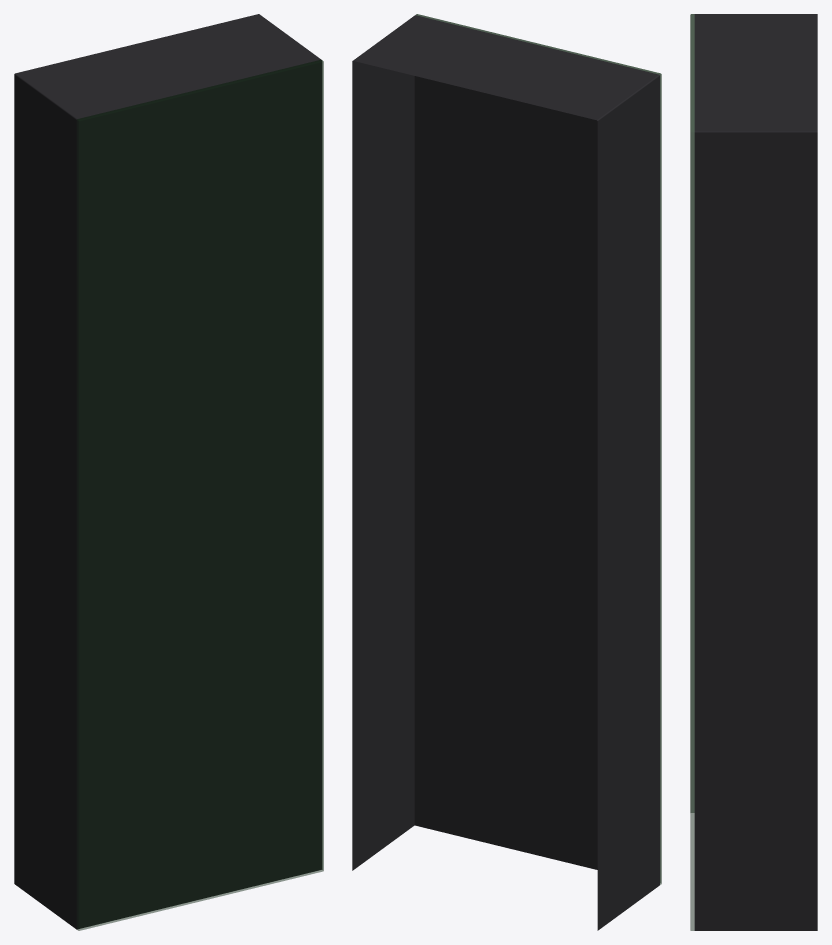
The model's file is Spacer.fbx.
The picture shows the model from 3 angles, left to right: view 1: azimuth 30°, elevation 25°; view 2: azimuth 150°, elevation 25°; view 3: azimuth 270°, elevation 25°; orthographic projection.
Visible parts, largest first — view 1: Spacer, Spacer Glass Plate; view 2: Spacer, Spacer Glass Plate; view 3: Spacer, Spacer Glass Plate.
Part boxes in pixels (x1,y1,x2,y2): Spacer: (14, 14, 321, 929); Spacer Glass Plate: (76, 60, 323, 930); Spacer: (352, 15, 659, 930); Spacer Glass Plate: (415, 14, 661, 884); Spacer: (694, 14, 817, 930); Spacer Glass Plate: (690, 14, 694, 930).
Bounding box in the file's own units: 0.6812 × 2.15 × 0.31.
